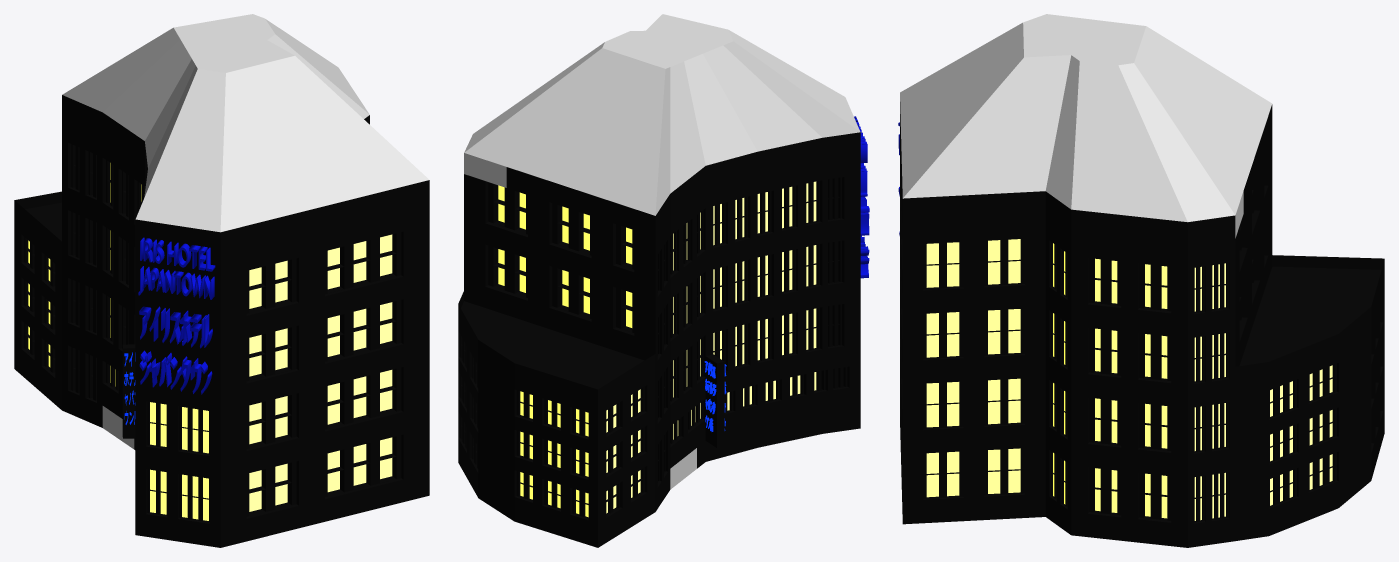
File: iris_hotel.fbx
3 renders of one model, left to right at view 1: azimuth 30°, elevation 25°; view 2: azimuth 150°, elevation 25°; view 3: azimuth 270°, elevation 25°, orthographic. The views are drawn at different scales.
Visible parts, largest first — view 1: Plane, Text.003, Text.001, Text; view 2: Plane, Text.003, Text.004; view 3: Plane.
Boxes of the visible parts, <box> form: Plane: <box>14,14,429,547</box>; Text.003: <box>139,306,212,394</box>; Text.001: <box>138,266,214,299</box>; Text: <box>140,237,215,271</box>; Plane: <box>458,14,860,547</box>; Text.003: <box>860,196,869,278</box>; Text.004: <box>704,361,716,431</box>; Plane: <box>900,14,1384,547</box>.
Size of the model in its own units: 1547 by 1974 by 2031.
